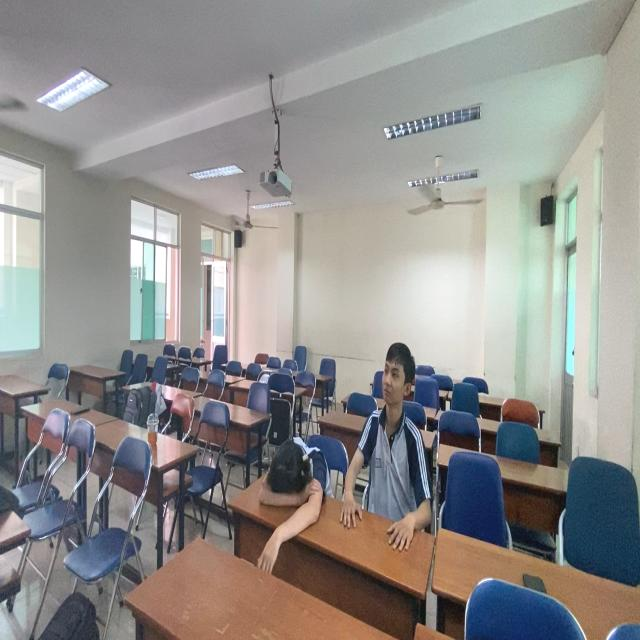sleep: (253, 431, 333, 536)
